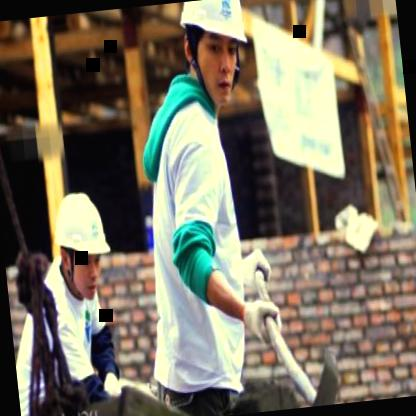helmet: (174, 0, 263, 108), (44, 178, 116, 307)
